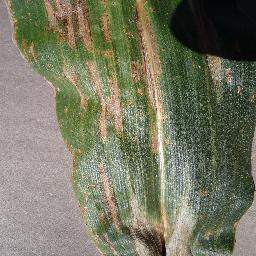Gray_Leaf_Spot: (58, 140, 108, 256), (93, 48, 129, 139), (137, 79, 174, 156), (48, 0, 94, 49), (130, 194, 166, 256), (63, 62, 97, 113), (130, 0, 161, 54), (158, 213, 196, 256), (201, 50, 232, 94), (108, 173, 123, 246), (11, 33, 41, 67), (39, 74, 63, 110), (127, 57, 165, 79), (97, 0, 115, 45), (5, 0, 24, 36), (174, 191, 191, 224), (204, 227, 222, 249), (196, 188, 214, 206), (123, 17, 134, 46), (233, 223, 246, 246), (250, 168, 256, 205), (248, 90, 255, 108), (30, 14, 38, 27), (237, 80, 240, 102)
